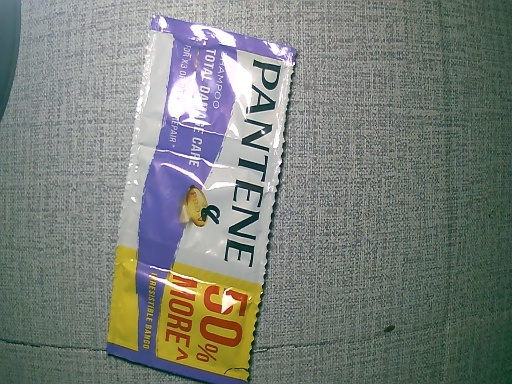plastic: (103, 17, 295, 378)
